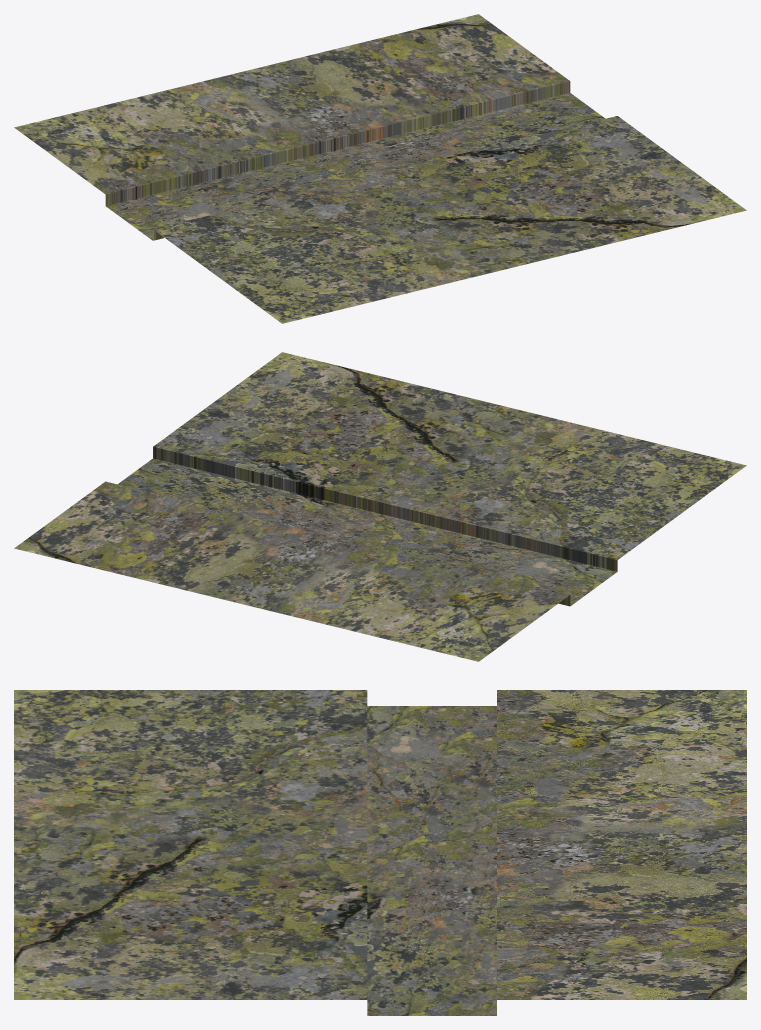
File: Dream2_Floor.glb
3 views of the same model, one above another, from view 1: azimuth 30°, elevation 25°; view 2: azimuth 150°, elevation 25°; view 3: azimuth 270°, elevation 25° (orthographic). The views are drawn at different scales.
Visible parts, largest first — view 1: Valley_Ground; view 2: Valley_Ground; view 3: Valley_Ground.
Boxes of the visible parts, x1,y1,x2,y2 form: Valley_Ground: (14,14,746,323); Valley_Ground: (14,352,746,661); Valley_Ground: (14,690,746,1015).
Bounding box in the file's own units: 40 × 0.9577 × 40.
1 material, 1 textured.
